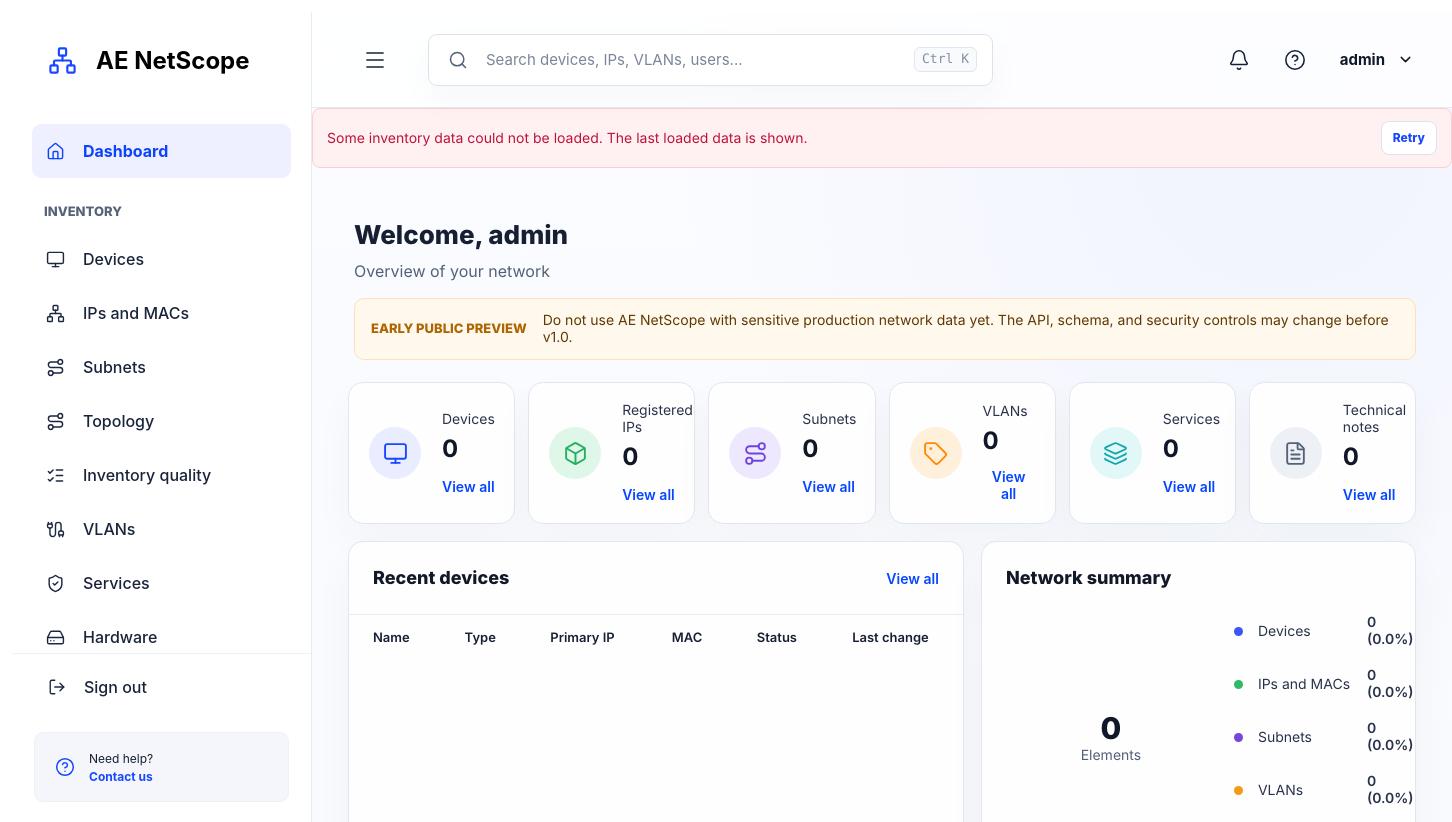
Test case: App navigation and account boundaries › warns when part of the inventory could not be loaded
The width and height of the screenshot is (1452, 822).
Expected: the text "Some inventory data could not be loaded. The last loaded data is shown." is shown, [327,128,808,148]
Click the button "Retry".
click(1409, 138)  # box [1381,121,1437,155]
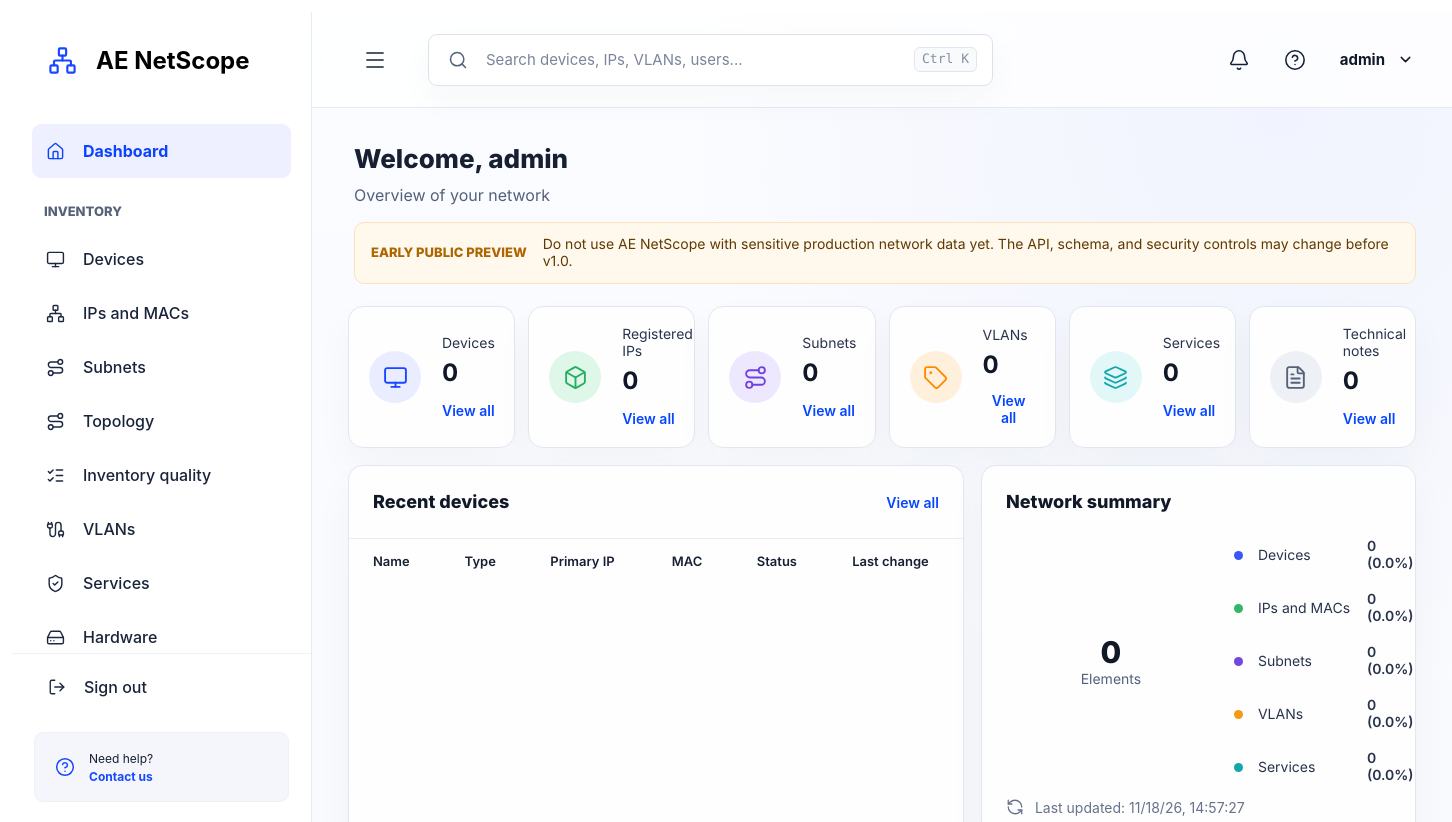
Expected: the text "Some inventory data could not be loaded. The last loaded data is shown." is gone
